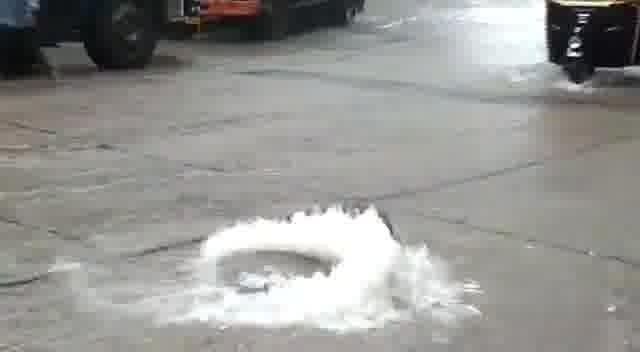drainage_overflow: (158, 209, 410, 331)
